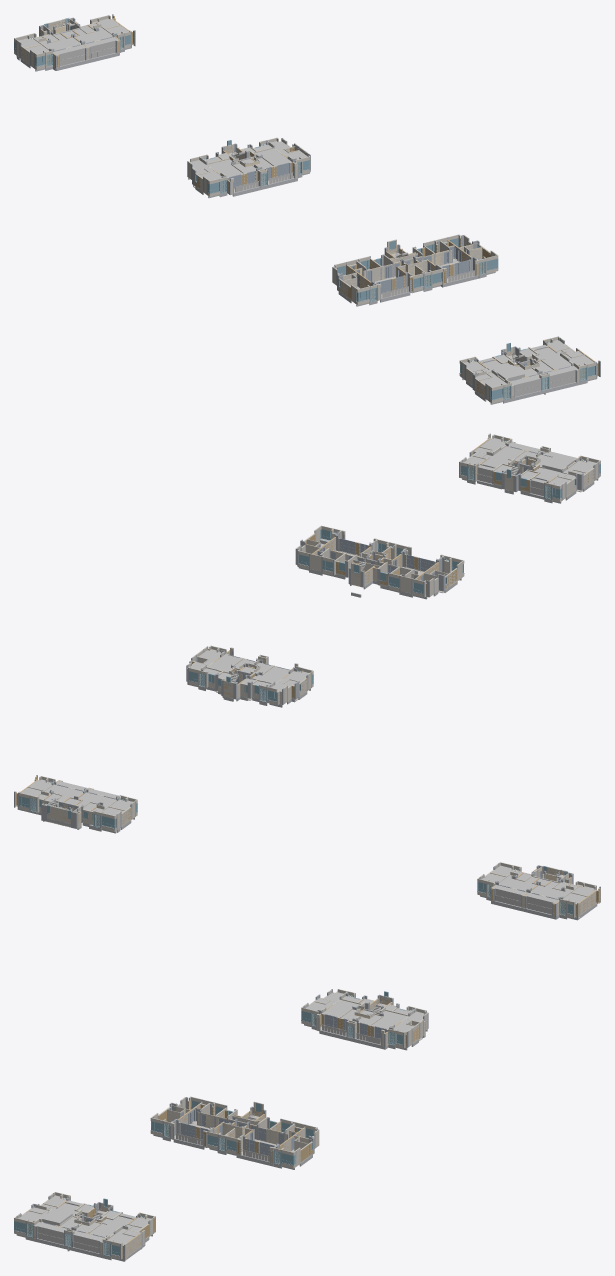
3 views of the same model, one above another, from view 1: azimuth 30°, elevation 25°; view 2: azimuth 150°, elevation 25°; view 3: azimuth 330°, elevation 25° (orthographic).
Parts seen in each view (by area): view 1: C_Q.001, C_QT, C_Z.001, C_W, C_L, C_M, C_QC__T200, C_QC__T250, C_QC__T100; view 2: C_Q.001, C_QT, C_Z.001, C_W, C_L, C_QC__T200, C_M, C_QC__T250; view 3: C_QT, C_Q.001, C_Z.001, C_W, C_L, C_QC__T200, C_M, C_QC__T250, C_QC__T100.
Part boxes in pixels (<box>): C_Q.001: <box>14,15,599,403</box>; C_QT: <box>19,17,593,396</box>; C_Z.001: <box>15,14,600,401</box>; C_W: <box>14,18,595,399</box>; C_L: <box>14,26,597,404</box>; C_M: <box>43,26,570,381</box>; C_QC__T200: <box>29,15,599,387</box>; C_QC__T250: <box>20,18,598,396</box>; C_QC__T100: <box>21,21,583,396</box>; C_Q.001: <box>17,434,600,831</box>; C_QT: <box>21,438,595,818</box>; C_Z.001: <box>14,433,599,830</box>; C_W: <box>19,440,600,828</box>; C_L: <box>17,452,600,833</box>; C_QC__T200: <box>15,436,588,825</box>; C_M: <box>56,446,551,808</box>; C_QC__T250: <box>16,441,594,823</box>; C_QT: <box>19,865,594,1253</box>; C_Q.001: <box>14,862,596,1259</box>; C_Z.001: <box>16,863,600,1260</box>; C_W: <box>14,866,572,1256</box>; C_L: <box>14,870,597,1261</box>; C_QC__T200: <box>26,868,600,1257</box>; C_M: <box>43,871,557,1237</box>; C_QC__T250: <box>28,884,599,1258</box>; C_QC__T100: <box>29,867,600,1259</box>.
Size of the model in its own units: 28.4 by 6.1 by 169.
